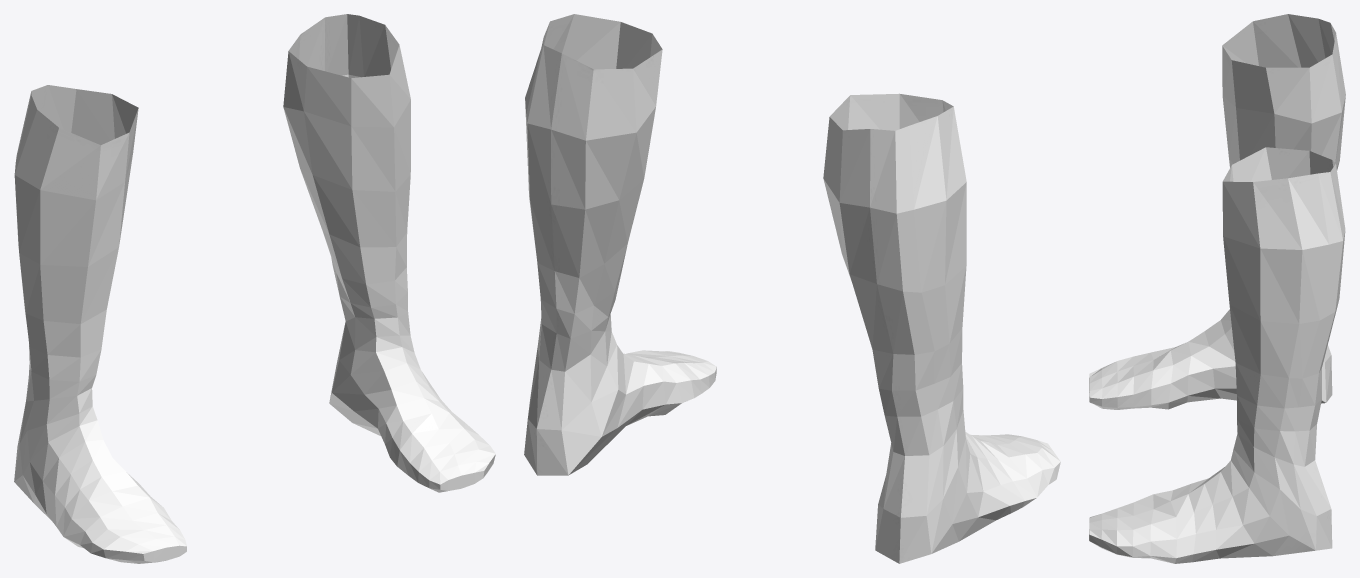
The model's file is mhw_joepal_crude_high_socks.glb.
The picture shows the model from 3 angles, left to right: view 1: azimuth 30°, elevation 25°; view 2: azimuth 150°, elevation 25°; view 3: azimuth 270°, elevation 25°; orthographic projection. The views are drawn at different scales.
Parts seen in each view (by area): view 1: mhw_joepal_crude_high_socks; view 2: mhw_joepal_crude_high_socks; view 3: mhw_joepal_crude_high_socks.
Part boxes in pixels (x1,y1,x2,y2): mhw_joepal_crude_high_socks: [14, 14, 495, 563]; mhw_joepal_crude_high_socks: [524, 14, 1060, 563]; mhw_joepal_crude_high_socks: [1089, 14, 1345, 563].
Bounding box in the file's own units: 0.5489 × 0.5013 × 0.307.
Materials: 1 (1 with a texture image).
